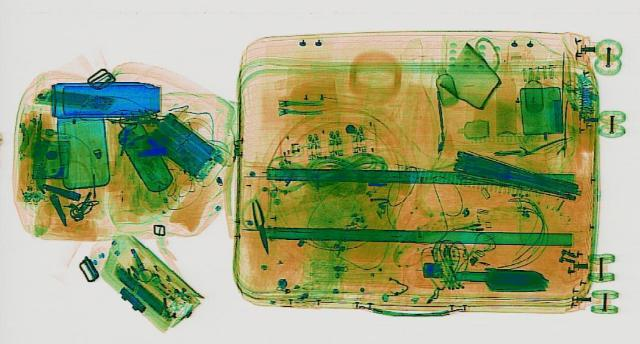Knife: (246, 197, 274, 253)
